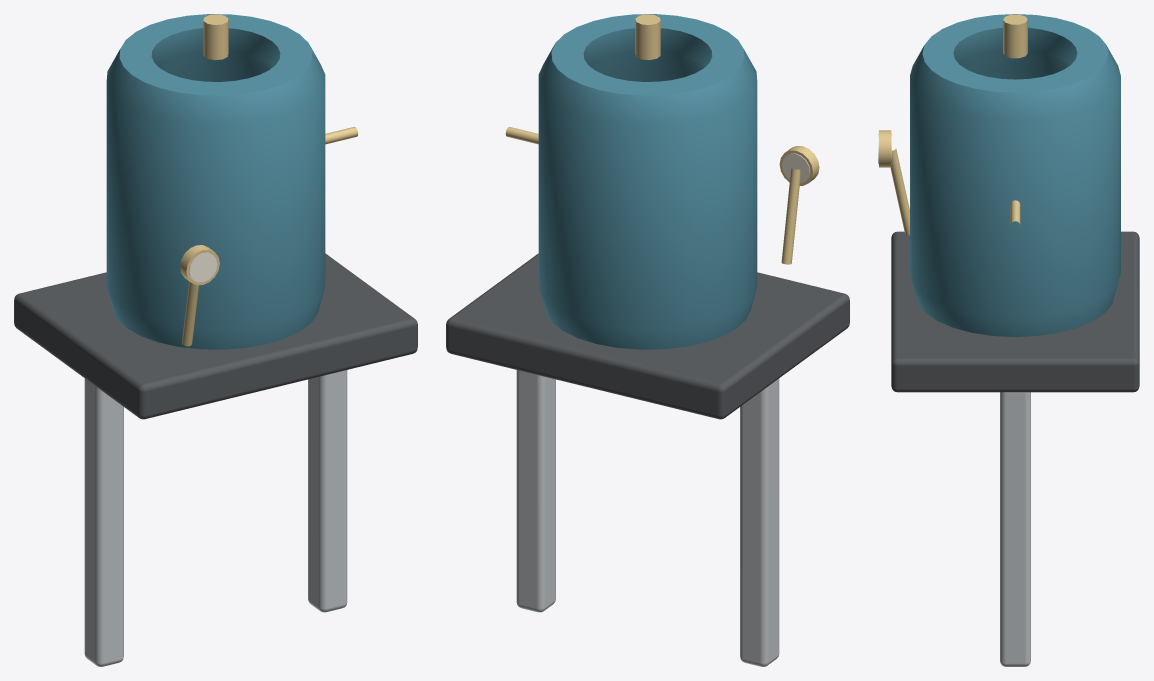
File: geotechnical-soil-testing-laboratory-deairing-reservoi-4b71ee3d__39046.glb
3 views of the same model, side by side, from view 1: azimuth 30°, elevation 25°; view 2: azimuth 150°, elevation 25°; view 3: azimuth 270°, elevation 25° (orthographic). The views are drawn at different scales.
Parts seen in each view (by area): view 1: deairing-reservoir; view 2: deairing-reservoir; view 3: deairing-reservoir.
Boxes of the visible parts, x1,y1,x2,y2 form: deairing-reservoir: (14,14,417,666); deairing-reservoir: (446,14,849,666); deairing-reservoir: (878,14,1139,666).
Size of the model in its own units: 0.5 by 1.05 by 0.4208.
